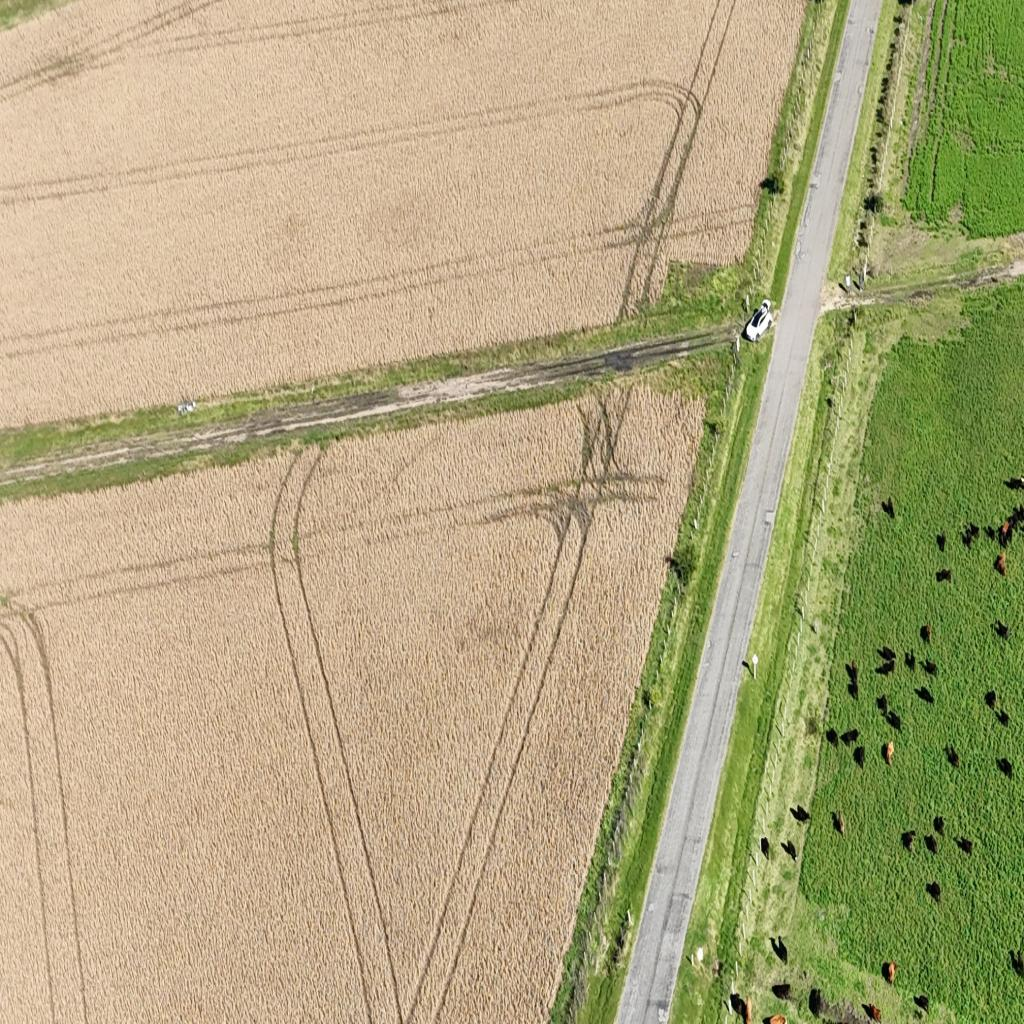cow: (994, 542, 1010, 577), (730, 993, 748, 1023), (808, 987, 824, 1018), (1007, 947, 1024, 975), (771, 982, 793, 1002), (790, 804, 810, 824), (883, 961, 898, 987), (864, 1003, 882, 1024), (964, 524, 980, 547), (915, 685, 934, 704), (840, 728, 860, 746), (956, 836, 974, 856), (781, 839, 797, 861), (776, 935, 788, 964), (997, 757, 1013, 778), (946, 746, 960, 770), (914, 994, 930, 1015), (926, 880, 941, 902), (879, 645, 897, 663), (1003, 476, 1024, 491), (834, 810, 846, 836), (888, 708, 902, 730), (1000, 520, 1012, 545), (881, 496, 894, 517), (925, 834, 938, 855), (923, 659, 938, 677), (1015, 948, 1024, 978), (882, 658, 896, 677), (876, 694, 888, 716), (902, 831, 915, 851), (764, 1013, 787, 1024), (996, 622, 1010, 640), (850, 660, 859, 688), (936, 567, 952, 582), (854, 744, 864, 768), (934, 816, 946, 836), (985, 690, 997, 709), (922, 622, 932, 644), (905, 652, 916, 672), (826, 729, 838, 747), (998, 708, 1010, 726), (1016, 504, 1024, 530), (761, 836, 770, 859), (886, 740, 894, 765), (850, 679, 859, 701), (985, 526, 996, 542), (937, 533, 946, 552)
